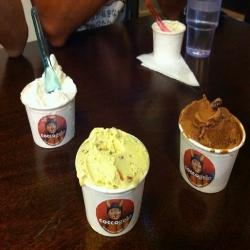icecream: (68, 120, 159, 208), (166, 93, 248, 177), (15, 65, 79, 128), (146, 11, 188, 68)
